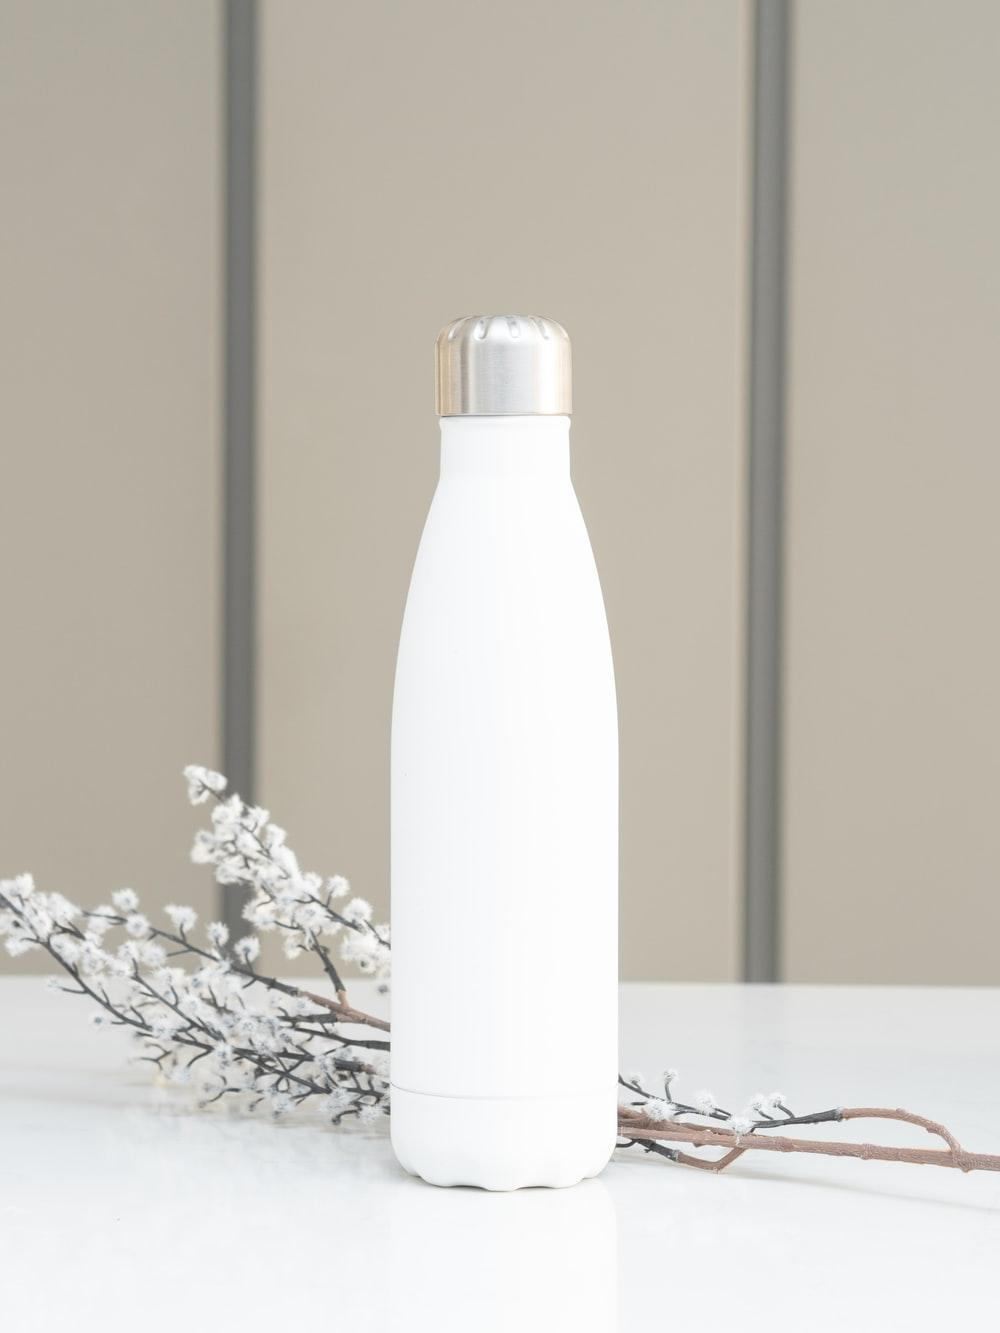bottle: (361, 291, 651, 1217)
